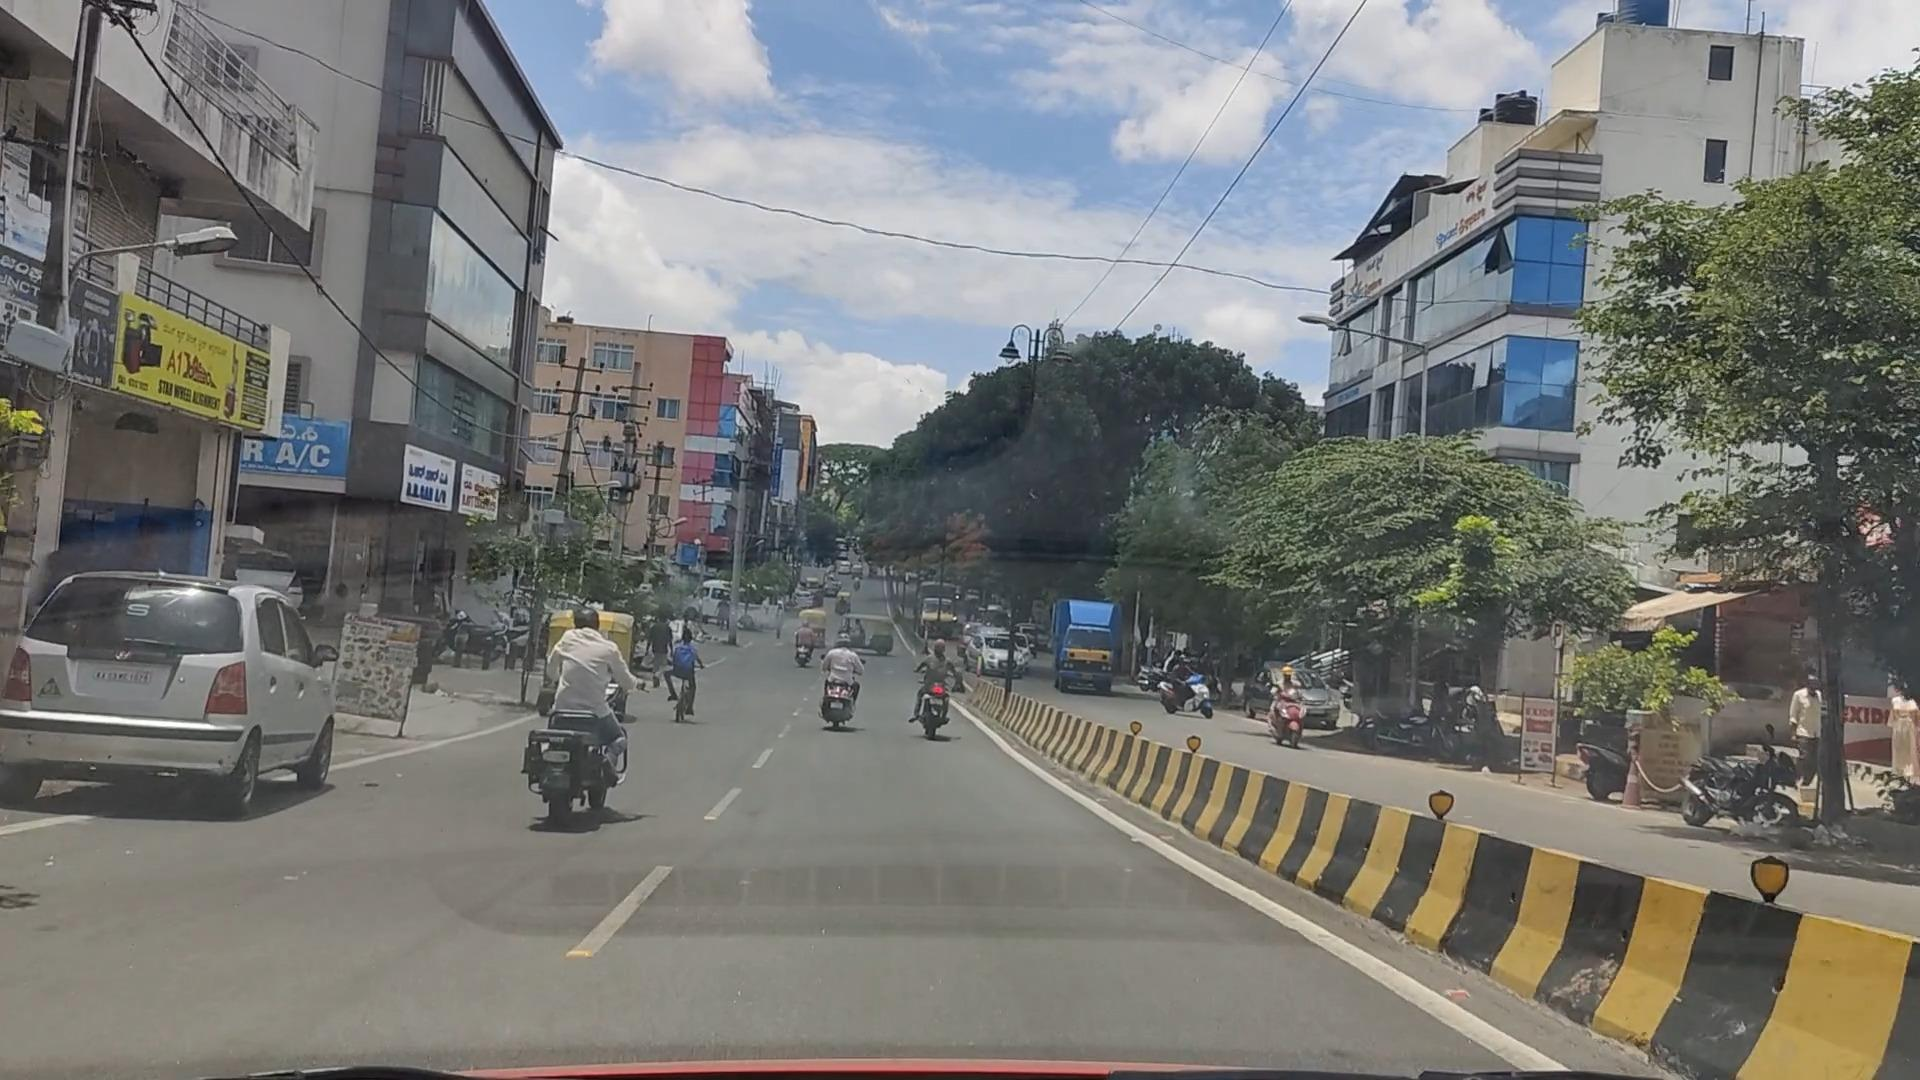LMV: (50, 574, 355, 835), (498, 596, 675, 851), (906, 641, 984, 746), (828, 613, 877, 750)
